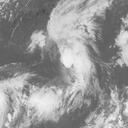cyclone: (47, 18, 98, 81)
